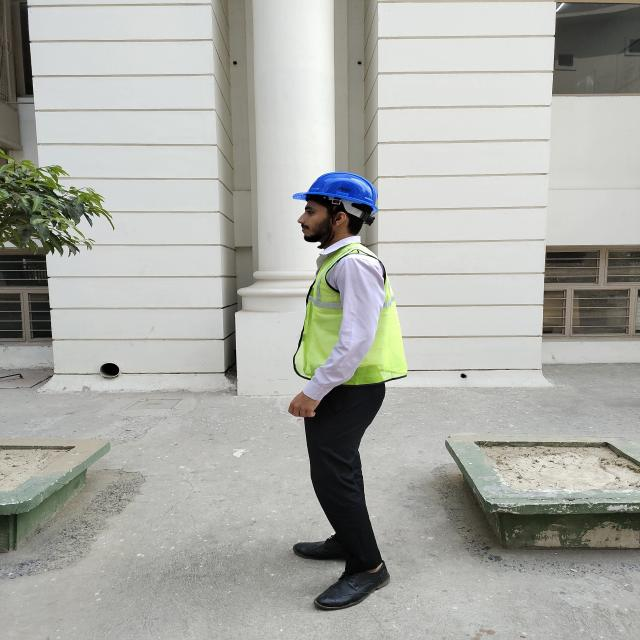safe: (292, 172, 408, 610)
